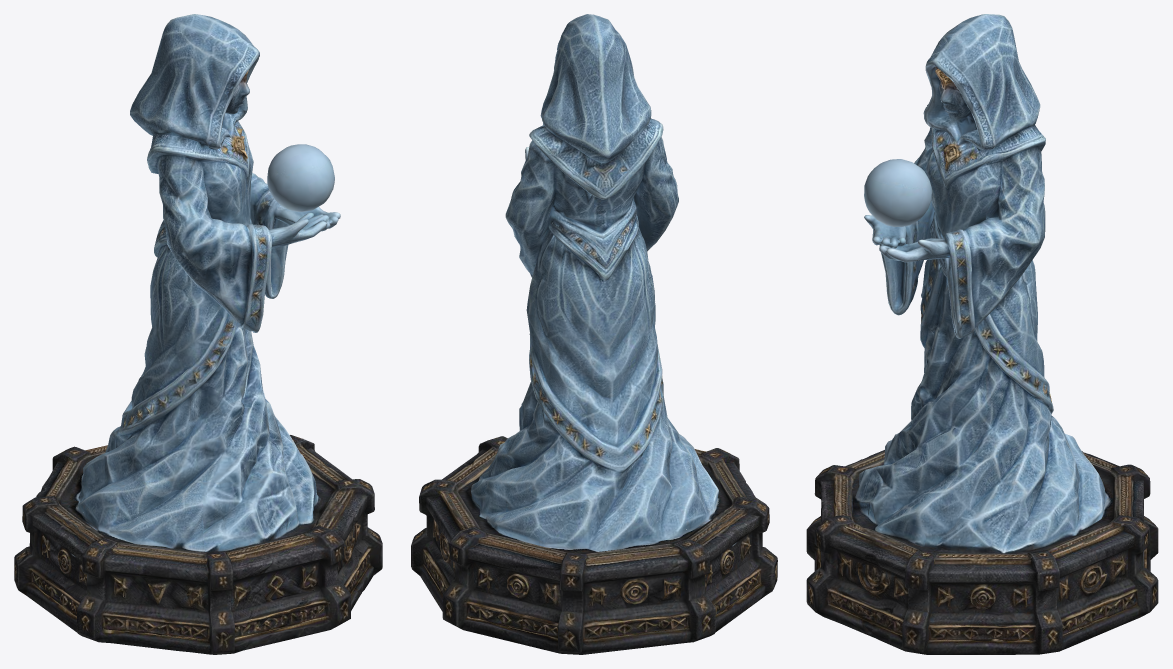
File: oraculo_branco.glb
The picture shows the model from 3 angles, left to right: view 1: azimuth 30°, elevation 25°; view 2: azimuth 150°, elevation 25°; view 3: azimuth 270°, elevation 25°; orthographic projection.
Visible parts, largest first — view 1: tripo_node_d2a59e81-72b8-407d-ad3c-08797dc81360; view 2: tripo_node_d2a59e81-72b8-407d-ad3c-08797dc81360; view 3: tripo_node_d2a59e81-72b8-407d-ad3c-08797dc81360.
Boxes of the visible parts, left/top/right/bottom form: tripo_node_d2a59e81-72b8-407d-ad3c-08797dc81360: left=14, top=14, right=382, bottom=654; tripo_node_d2a59e81-72b8-407d-ad3c-08797dc81360: left=411, top=14, right=777, bottom=654; tripo_node_d2a59e81-72b8-407d-ad3c-08797dc81360: left=806, top=14, right=1158, bottom=654.
Size of the model in its own units: 0.5481 by 0.9782 by 0.5483.
Materials: 1 (1 with a texture image).
